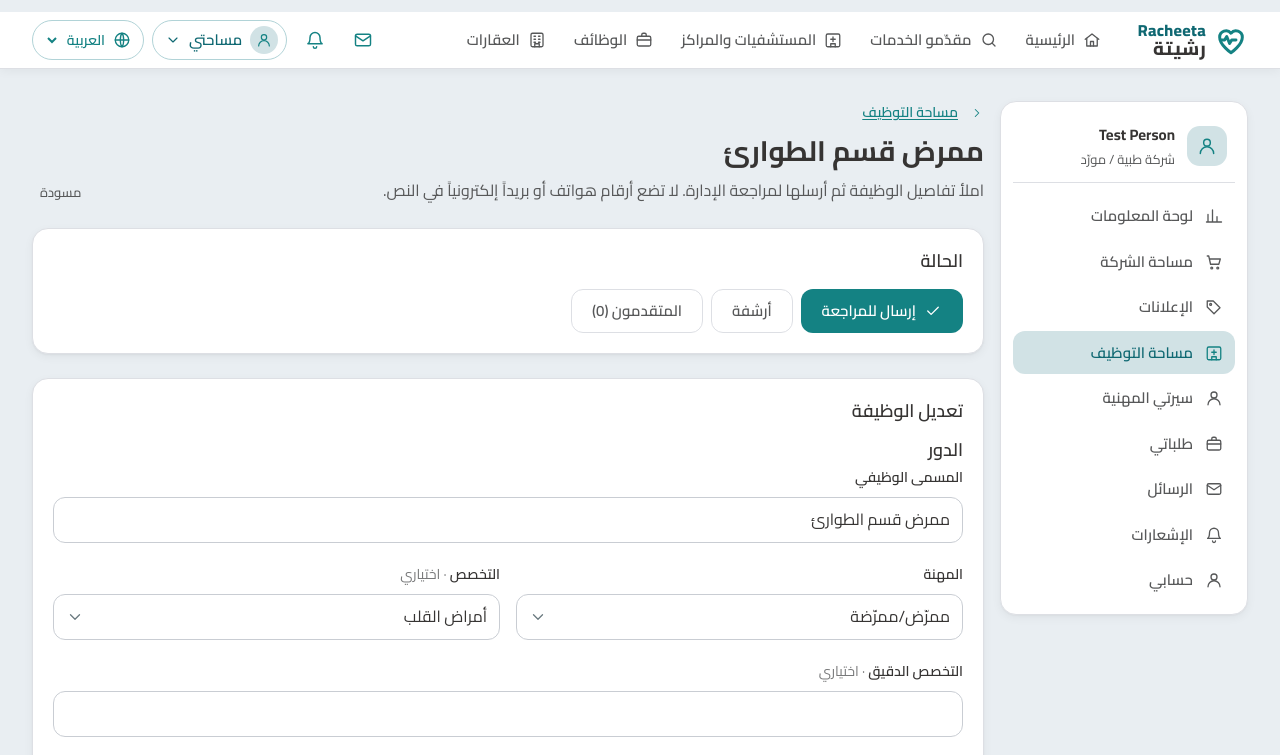
it: JobEditorPage › submits a draft for review with the loading contract and shows the limit error
Click the button "إرسال للمراجعة" at coordinates (882, 311), box [801,289,963,333]
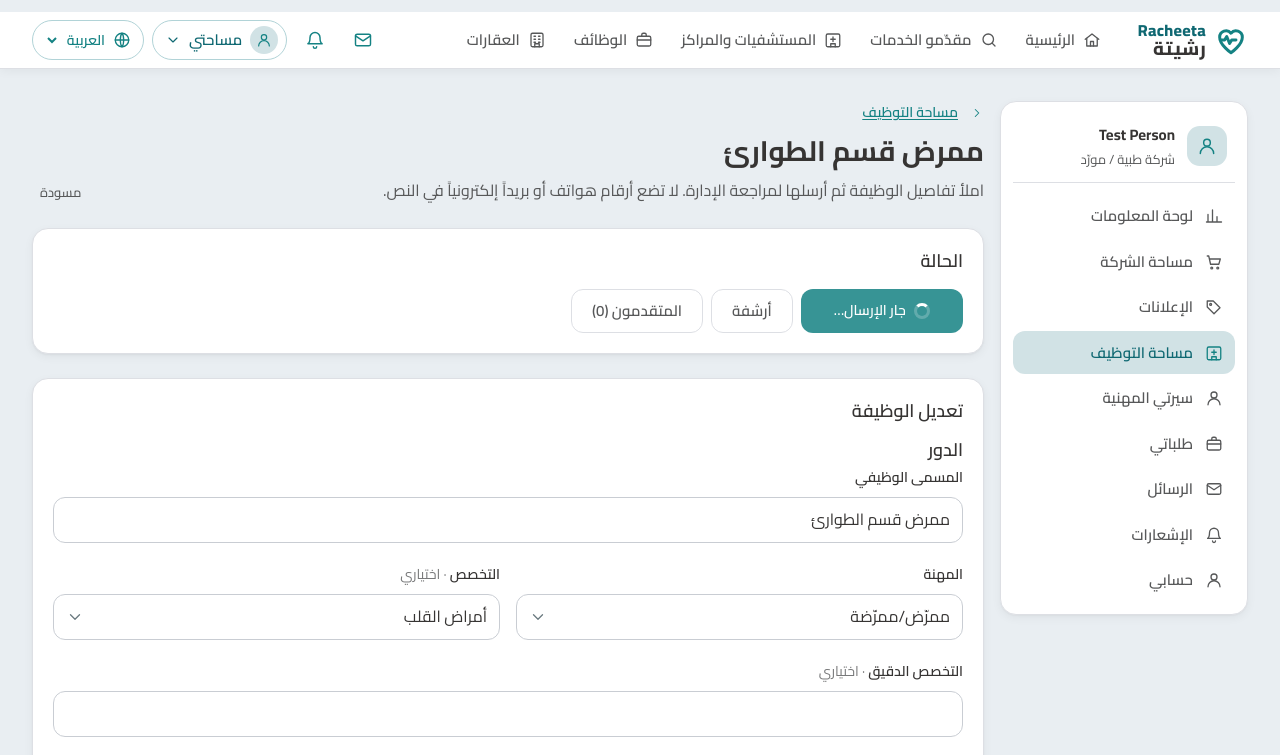
Expected: the button "جارٍ الإرسال…" is disabled
Click the button "جارٍ الإرسال…" at coordinates (882, 311), box [801,289,963,333]
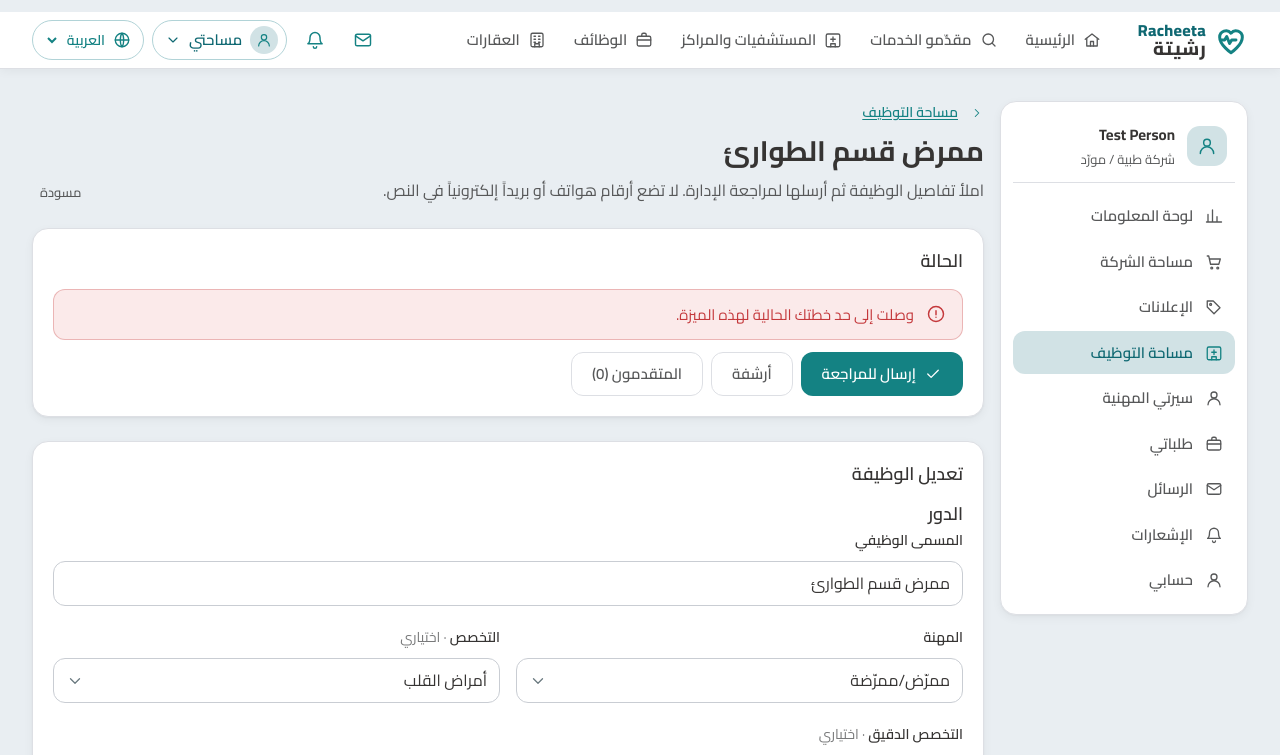
Expected: the text "وصلت إلى حد خطتك الحالية لهذه الميزة." is shown, [676,300,914,329]
Expected: the button "إرسال للمراجعة" is enabled, [801,352,963,396]
